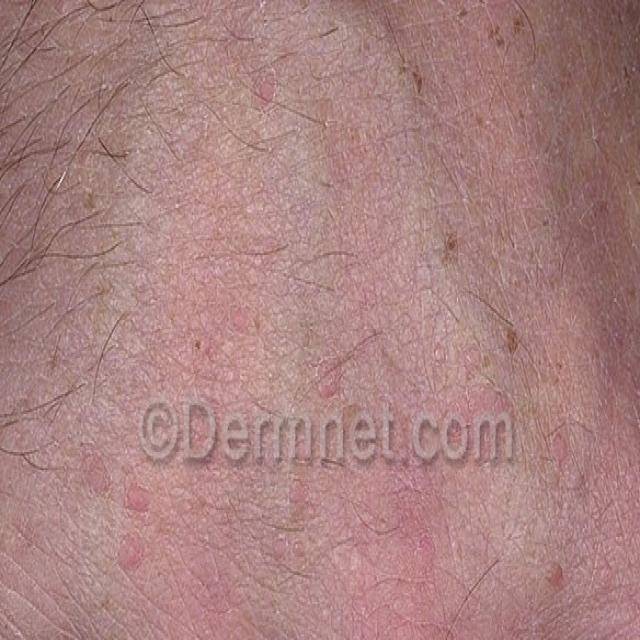Warts: (354, 519, 503, 640), (80, 427, 182, 588), (265, 455, 320, 572), (240, 38, 295, 127), (304, 330, 356, 417)
